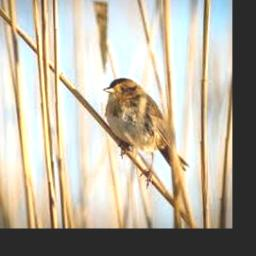Sparrow: (103, 77, 189, 186)
